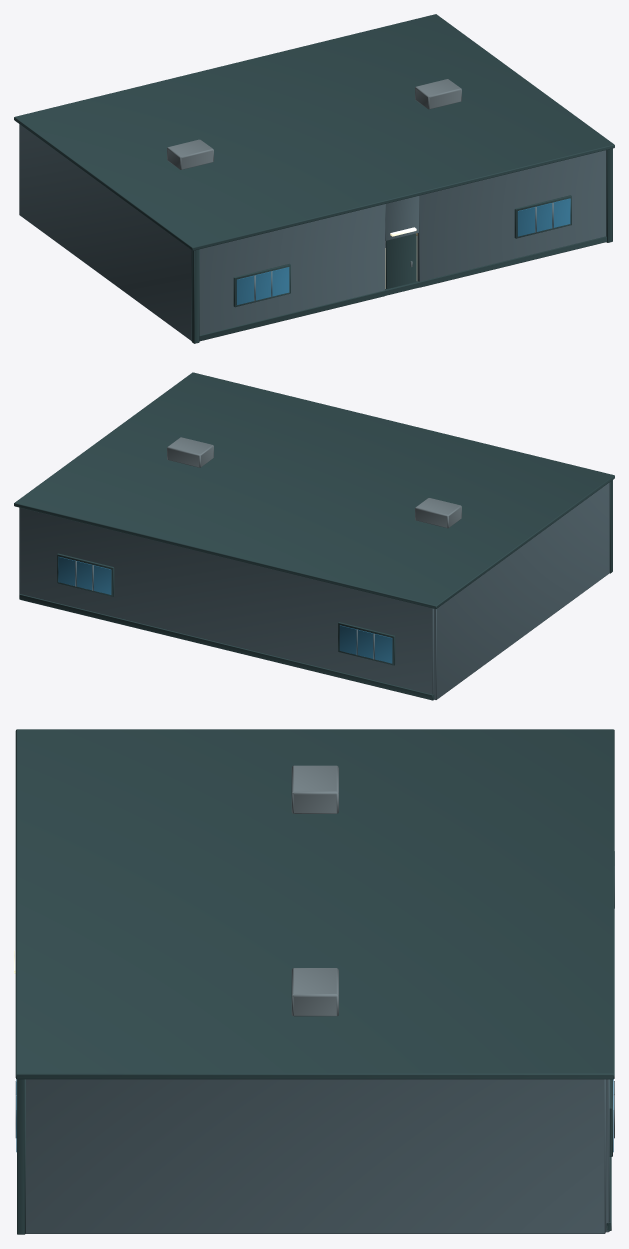
Rendered from north-workshop.glb.
The picture shows the model from 3 angles, top to bottom: view 1: azimuth 30°, elevation 25°; view 2: azimuth 150°, elevation 25°; view 3: azimuth 270°, elevation 25°; orthographic projection. The views are drawn at different scales.
Parts seen in each view (by area): view 1: roof_0_trim, shell_0_wall, shell_0_trim, shell_0_blue, roof_0_metal, door_0_trim; view 2: roof_0_trim, shell_0_wall, shell_0_trim, shell_0_blue, roof_0_metal; view 3: roof_0_trim, shell_0_wall, roof_0_metal, shell_0_trim.
Part boxes in pixels (x1,y1,x2,y2): roof_0_trim: (14, 14, 614, 250); shell_0_wall: (19, 124, 606, 341); shell_0_trim: (191, 148, 612, 343); shell_0_blue: (236, 198, 570, 305); roof_0_metal: (167, 79, 461, 169); door_0_trim: (386, 233, 416, 288); roof_0_trim: (14, 372, 614, 608); shell_0_wall: (19, 482, 609, 700); shell_0_trim: (19, 480, 612, 700); shell_0_blue: (58, 556, 392, 663); roof_0_metal: (167, 437, 461, 528); roof_0_trim: (15, 729, 614, 1079); shell_0_wall: (25, 1079, 609, 1233); roof_0_metal: (291, 765, 338, 1016); shell_0_trim: (17, 1079, 612, 1234).
Size of the model in its own units: 22.5 by 5.6 by 16.56.
